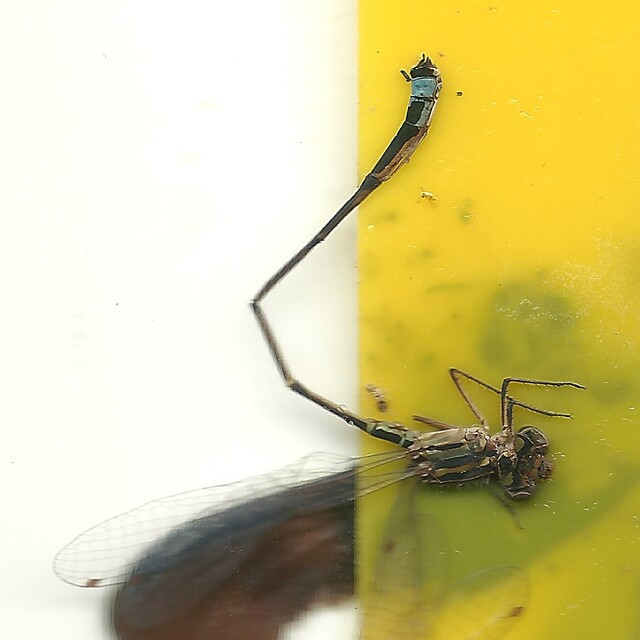Odonata: (53, 50, 587, 590)
